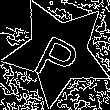P_NE: (29, 21, 86, 83)
